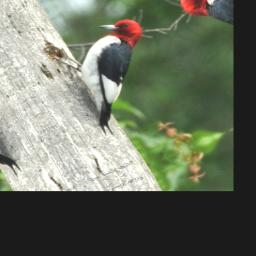Woodpecker: (50, 11, 189, 135)
